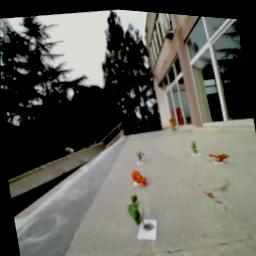herb: (126, 190, 148, 230), (189, 137, 201, 155), (136, 148, 146, 162)
wild: (207, 144, 233, 163), (129, 166, 149, 187)
